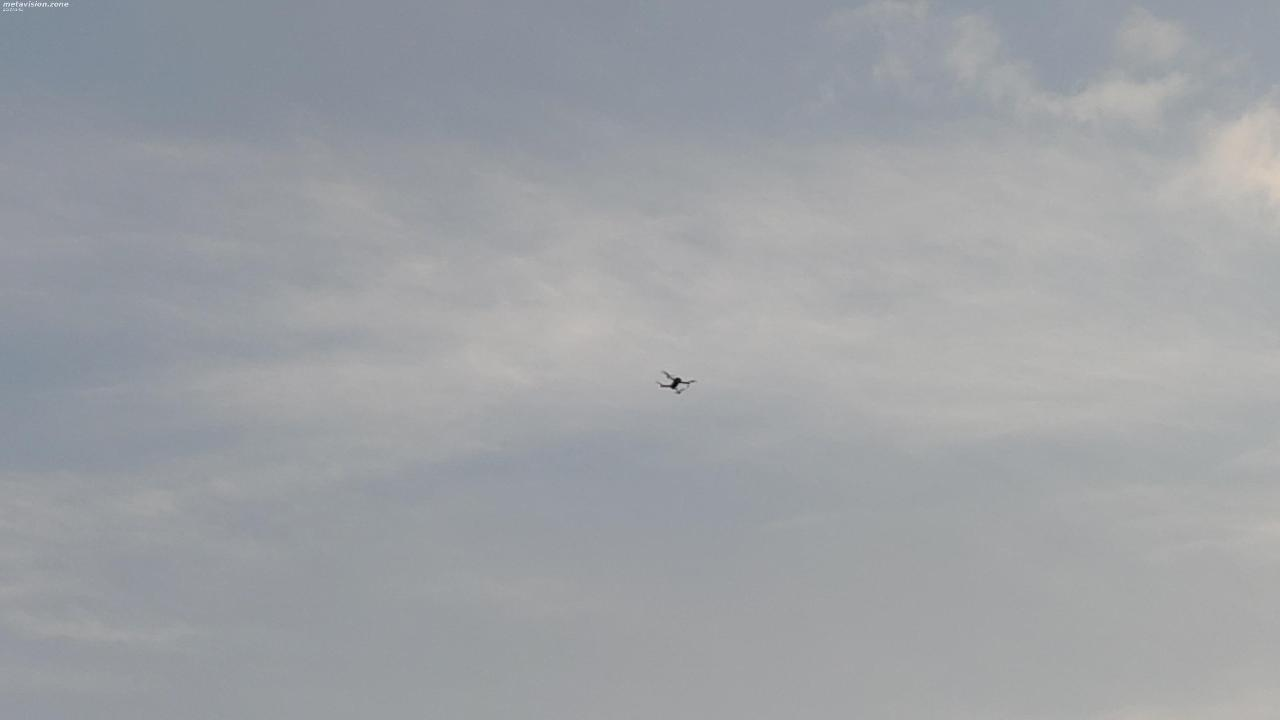drone: (648, 363, 701, 399)
